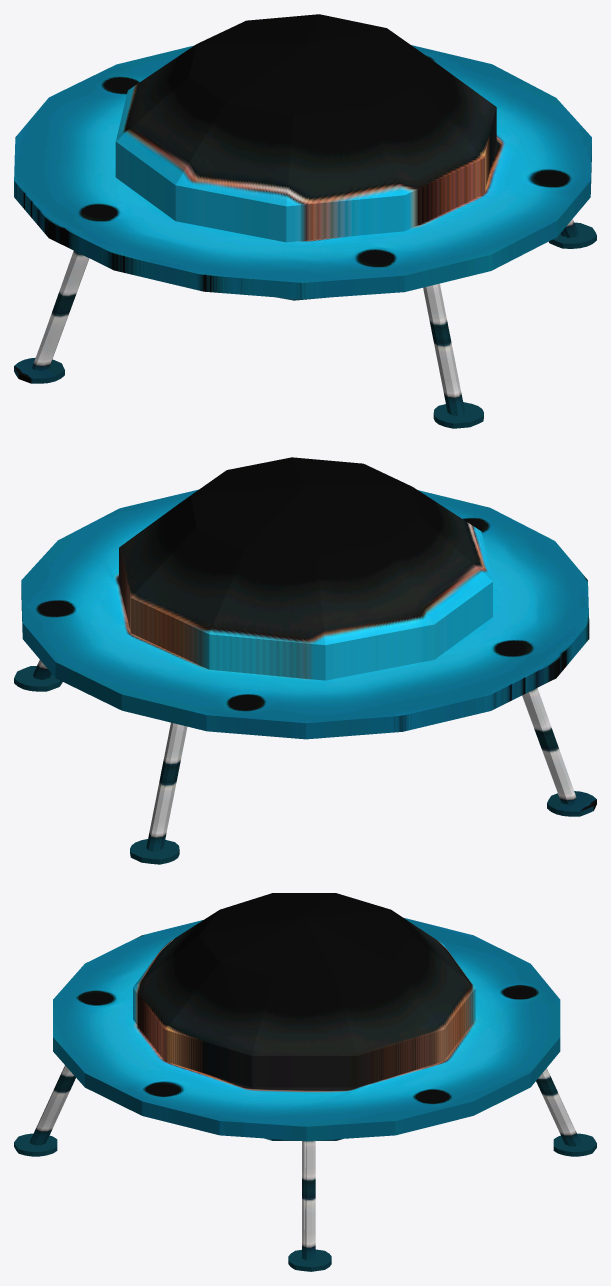
Rendered from Spceship.glb.
3 renders of one model, top to bottom at view 1: azimuth 30°, elevation 25°; view 2: azimuth 150°, elevation 25°; view 3: azimuth 270°, elevation 25°, orthographic. The views are drawn at different scales.
Parts seen in each view (by area): view 1: Spceship; view 2: Spceship; view 3: Spceship.
Part boxes in pixels (x1,y1,x2,y2): Spceship: (14, 14, 596, 428); Spceship: (14, 457, 596, 864); Spceship: (14, 893, 596, 1271).
Size of the model in its own units: 333 by 144 by 330.
1 material, 1 textured.
